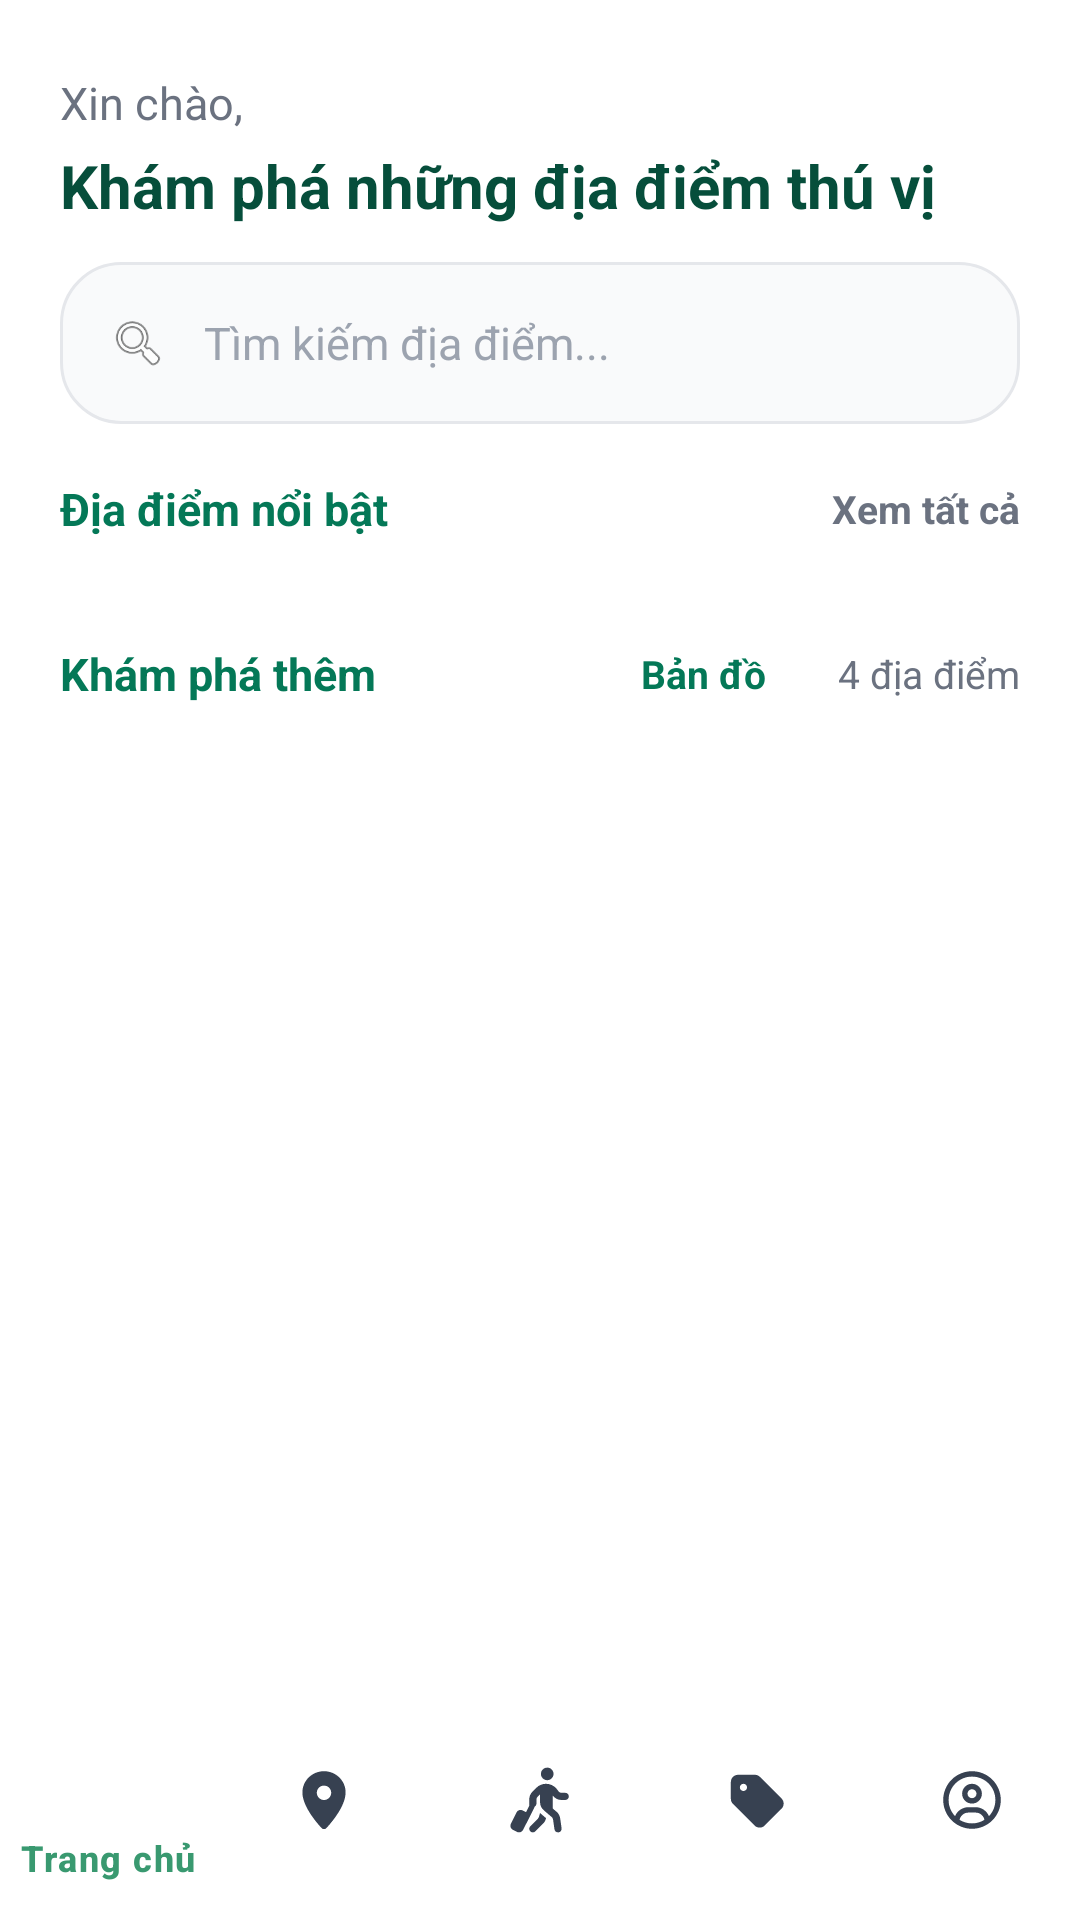

Locate icon controls on the screen. Image size 1080 x 1920, boxes as BBox(x1, y1, x2, y2).
search: BBox(116, 321, 160, 366)
